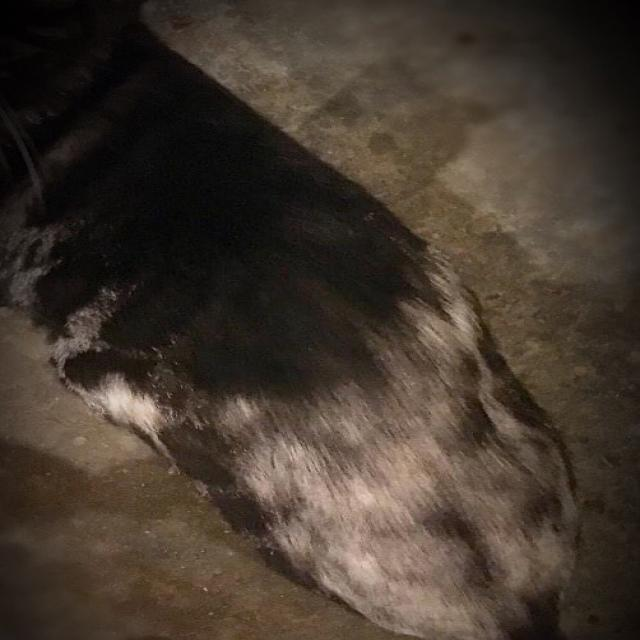cat-hairloss: (304, 411, 556, 621), (408, 303, 475, 406)
